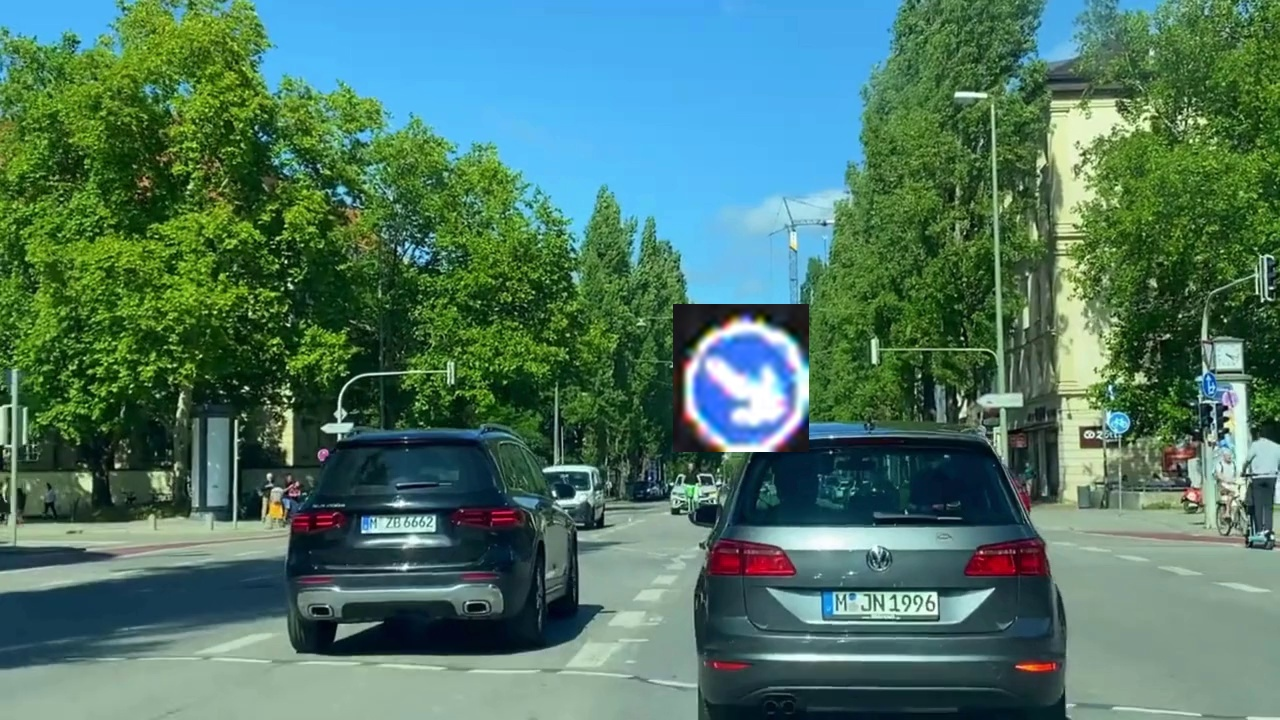Keep right: (673, 304, 809, 452)
